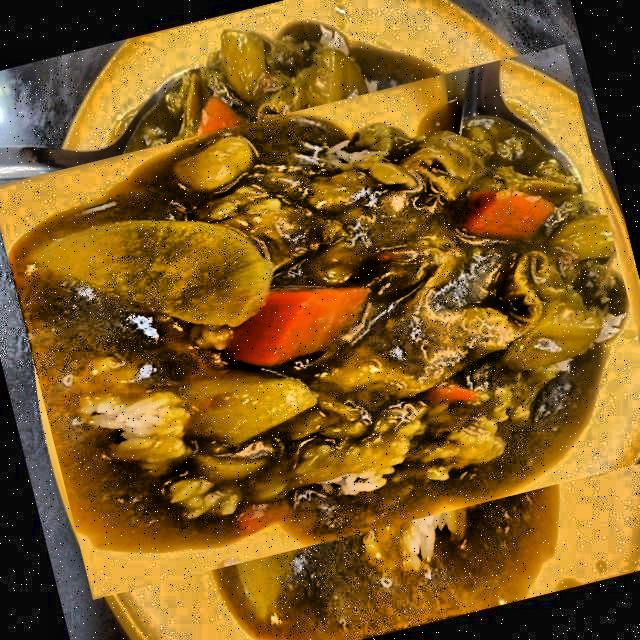Food: (20, 12, 637, 630)
